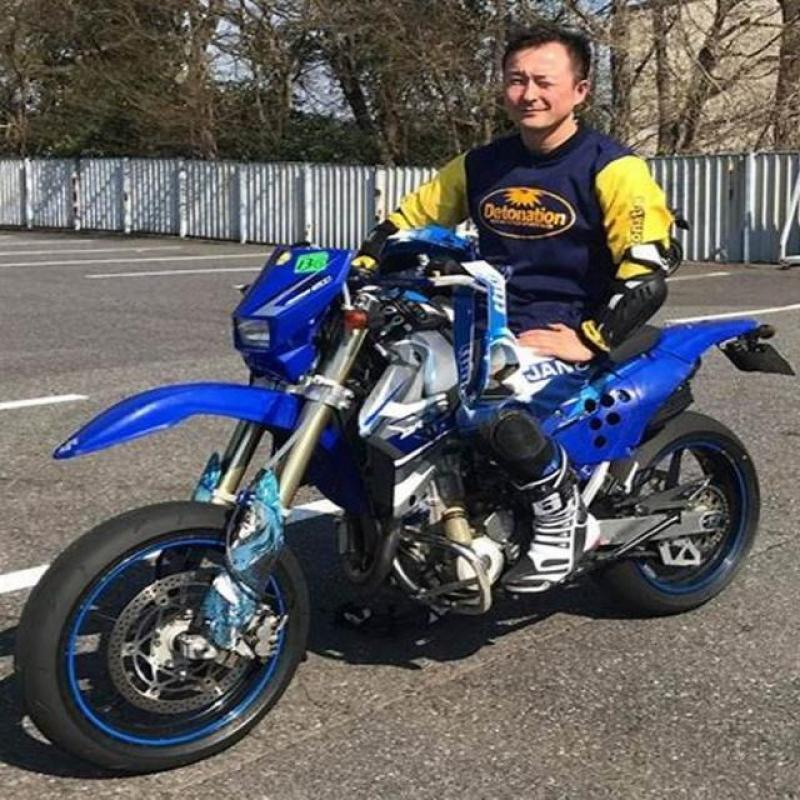nohelmet: (488, 19, 610, 142)
